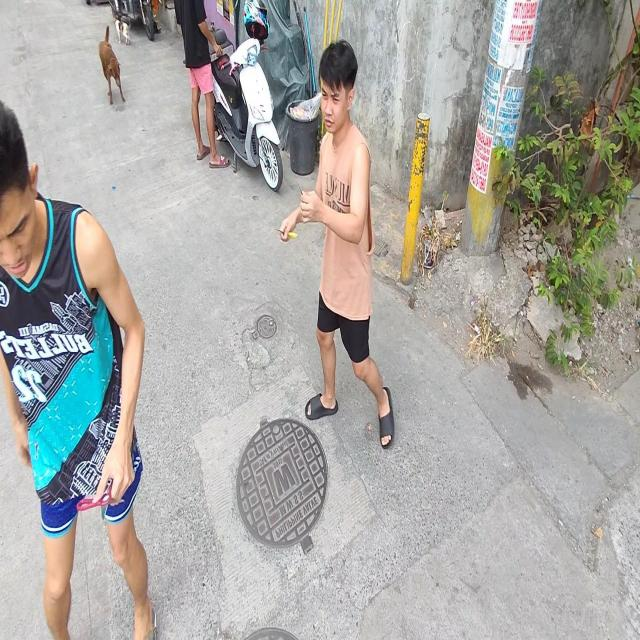scissor: (77, 479, 125, 520), (275, 227, 297, 241)
